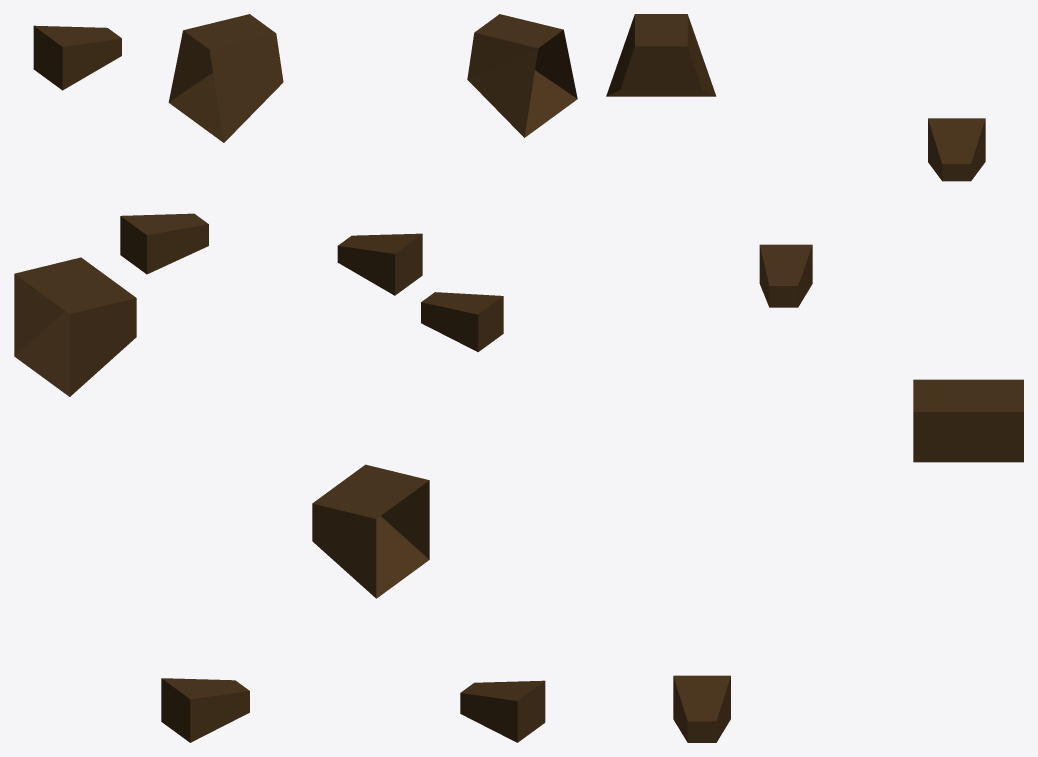
File: model_loc_448_q.obj
3 renders of one model, left to right at view 1: azimuth 30°, elevation 25°; view 2: azimuth 150°, elevation 25°; view 3: azimuth 270°, elevation 25°, orthographic. The views are drawn at different scales.
Parts seen in each view (by area): view 1: 2103; view 2: 2103; view 3: 2103.
Boxes of the visible parts, x1=… form: 2103: x1=14, y1=14, x2=283, y2=742; 2103: x1=312, y1=14, x2=577, y2=742; 2103: x1=606, y1=14, x2=1023, y2=742.
Bounding box in the file's own units: 16 × 162 × 87.
